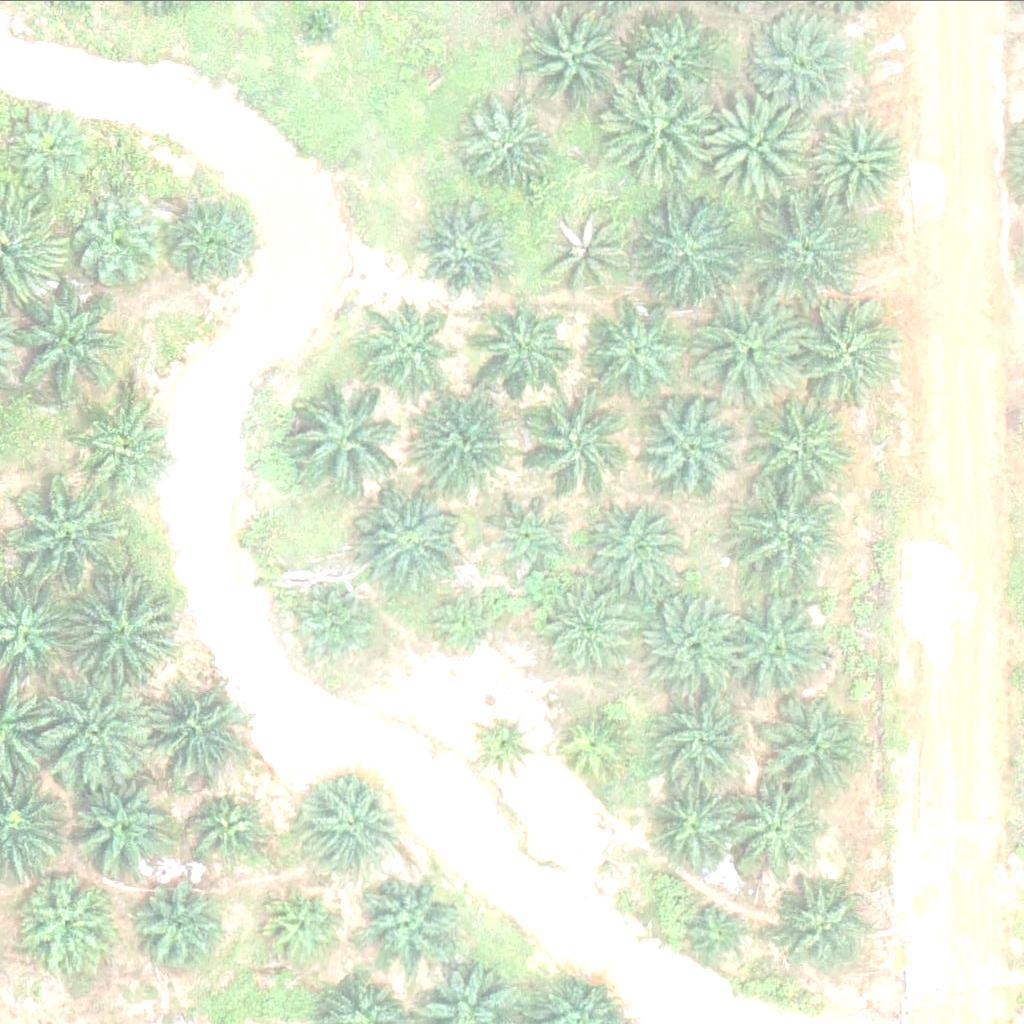Kelapa_Sawit: (66, 577, 180, 690), (794, 293, 907, 406), (284, 380, 397, 493), (357, 486, 470, 599), (635, 588, 748, 701), (723, 591, 836, 704), (762, 689, 875, 802), (515, 382, 629, 494), (732, 484, 846, 596), (517, 1, 630, 113), (600, 78, 713, 190), (698, 91, 811, 203), (753, 189, 866, 301), (632, 193, 745, 305), (8, 289, 121, 401), (694, 295, 807, 407), (751, 394, 864, 506), (412, 391, 525, 503), (8, 478, 121, 590), (41, 670, 154, 782), (747, 11, 848, 111), (458, 97, 559, 197), (478, 301, 579, 401), (640, 399, 741, 499), (71, 782, 172, 882), (591, 499, 692, 599), (657, 691, 758, 791), (648, 776, 749, 876), (774, 874, 875, 974), (810, 112, 910, 212), (160, 191, 260, 291), (413, 200, 513, 300), (582, 301, 682, 401), (81, 394, 181, 494), (146, 684, 246, 784), (306, 774, 406, 874), (539, 576, 639, 676), (728, 781, 828, 881), (14, 871, 114, 971), (359, 868, 459, 968), (631, 13, 719, 101), (67, 199, 155, 287), (485, 488, 573, 576), (293, 583, 381, 671), (131, 886, 219, 974), (2, 102, 90, 190), (544, 204, 632, 291), (374, 302, 462, 389), (262, 887, 338, 962), (188, 792, 263, 867), (424, 584, 499, 659), (562, 708, 637, 783), (686, 893, 761, 968), (475, 711, 538, 774), (290, 4, 341, 54)
